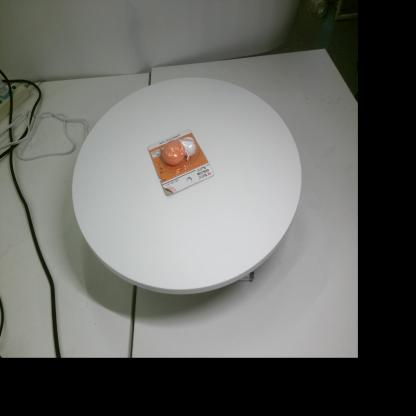Stationery: (148, 129, 214, 196)
